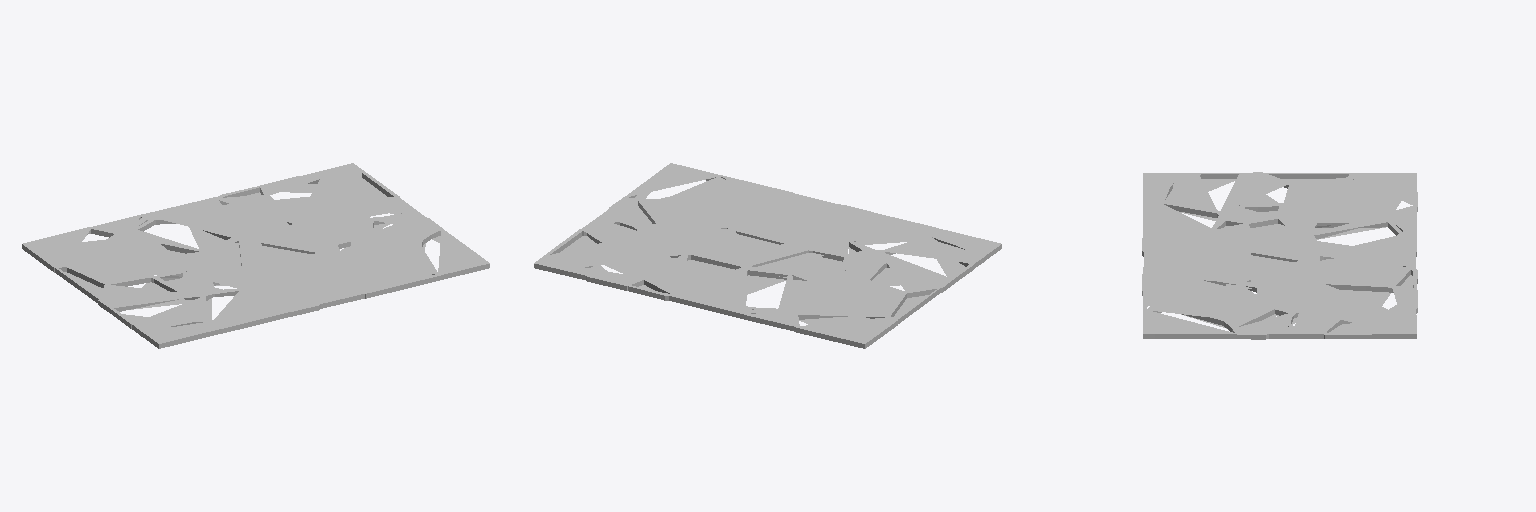
Rendered from voronoiGridPlane.obj.
3 renders of one model, left to right at view 1: azimuth 30°, elevation 25°; view 2: azimuth 150°, elevation 25°; view 3: azimuth 270°, elevation 25°, orthographic.
Parts seen in each view (by area): view 1: Plane_cell.027_Mesh.087, Plane; view 2: Plane_cell.027_Mesh.087, Plane; view 3: Plane_cell.027_Mesh.087, Plane.
Part boxes in pixels (left/top/right/bottom): Plane_cell.027_Mesh.087: left=22, top=163, right=489, bottom=348; Plane: left=206, top=243, right=349, bottom=274; Plane_cell.027_Mesh.087: left=534, top=163, right=1001, bottom=348; Plane: left=721, top=220, right=823, bottom=277; Plane_cell.027_Mesh.087: left=1142, top=172, right=1417, bottom=339; Plane: left=1226, top=236, right=1314, bottom=288.
Bounding box in the file's own units: 42.57 × 0.6 × 30.58.